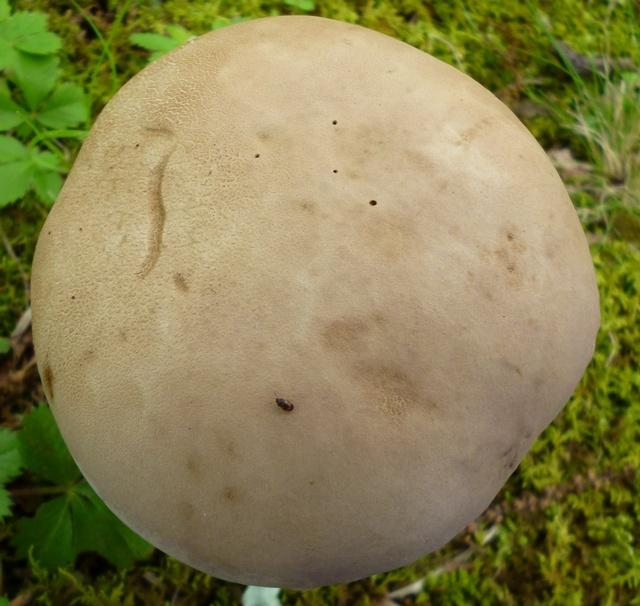Non-edible Mushroom: (27, 13, 602, 590)
